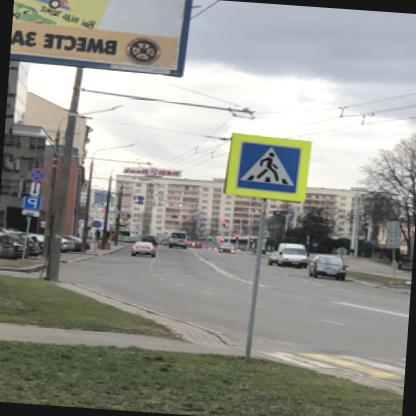crosswalk: (237, 140, 304, 194)
